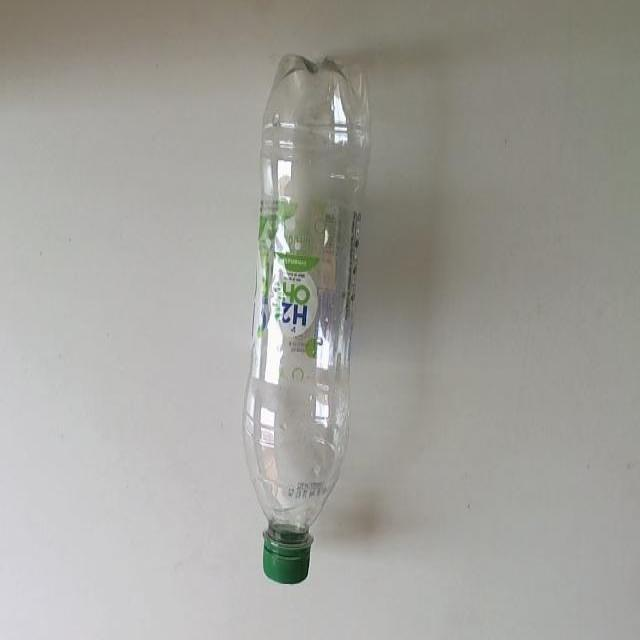non-defect: (241, 52, 374, 586)
